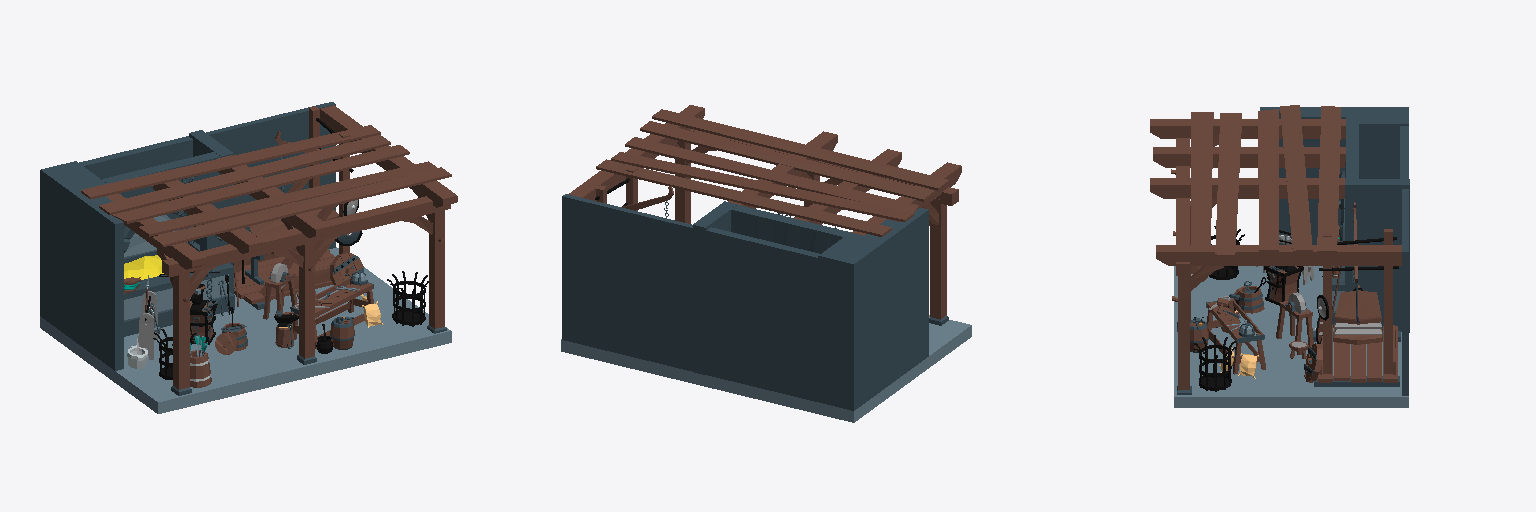
3 renders of one model, left to right at view 1: azimuth 30°, elevation 25°; view 2: azimuth 150°, elevation 25°; view 3: azimuth 270°, elevation 25°, orthographic.
Visible parts, largest first — view 1: group[number redacted], group[number redacted], group[number redacted], group[number redacted], group[number redacted], group[number redacted], group[number redacted], group[number redacted], group[number redacted], group[number redacted], group[number redacted], group[number redacted] (+19 smaller); view 2: group[number redacted], group[number redacted], group[number redacted], group[number redacted], group[number redacted], group[number redacted], group[number redacted], group[number redacted], group[number redacted], group[number redacted], group[number redacted], group[number redacted] (+8 smaller); view 3: group[number redacted], group[number redacted], group[number redacted], group[number redacted], group[number redacted], group[number redacted], group[number redacted], group[number redacted], group[number redacted], group[number redacted], group[number redacted], group[number redacted] (+11 smaller).
Boxes of the visible parts, x1=… form: group[number redacted]: x1=40, y1=247, x2=451, y2=413; group[number redacted]: x1=40, y1=161, x2=123, y2=370; group[number redacted]: x1=234, y1=106, x2=353, y2=309; group[number redacted]: x1=162, y1=196, x2=450, y2=277; group[number redacted]: x1=152, y1=167, x2=451, y2=246; group[number redacted]: x1=99, y1=135, x2=390, y2=214; group[number redacted]: x1=112, y1=145, x2=409, y2=223; group[number redacted]: x1=124, y1=242, x2=234, y2=336; group[number redacted]: x1=206, y1=102, x2=335, y2=248; group[number redacted]: x1=81, y1=125, x2=380, y2=199; group[number redacted]: x1=138, y1=161, x2=436, y2=236; group[number redacted]: x1=79, y1=136, x2=192, y2=257; group[number redacted]: x1=562, y1=194, x2=692, y2=371; group[number redacted]: x1=818, y1=208, x2=928, y2=410; group[number redacted]: x1=706, y1=227, x2=819, y2=358; group[number redacted]: x1=561, y1=315, x2=971, y2=422; group[number redacted]: x1=706, y1=332, x2=817, y2=401; group[number redacted]: x1=640, y1=121, x2=934, y2=201; group[number redacted]: x1=652, y1=109, x2=949, y2=190; group[number redacted]: x1=596, y1=159, x2=891, y2=236; group[number redacted]: x1=625, y1=137, x2=918, y2=212; group[number redacted]: x1=611, y1=152, x2=913, y2=221; group[number redacted]: x1=731, y1=205, x2=849, y2=253; group[number redacted]: x1=693, y1=201, x2=737, y2=374; group[number redacted]: x1=1174, y1=266, x2=1408, y2=407; group[number redacted]: x1=1313, y1=202, x2=1400, y2=386; group[number redacted]: x1=1345, y1=179, x2=1409, y2=332; group[number redacted]: x1=1260, y1=107, x2=1408, y2=244; group[number redacted]: x1=1156, y1=245, x2=1401, y2=265; group[number redacted]: x1=1215, y1=113, x2=1241, y2=256; group[number redacted]: x1=1191, y1=112, x2=1213, y2=254; group[number redacted]: x1=1280, y1=105, x2=1312, y2=252; group[number redacted]: x1=1317, y1=106, x2=1340, y2=252; group[number redacted]: x1=1258, y1=109, x2=1278, y2=251; group[number redacted]: x1=1150, y1=178, x2=1345, y2=198; group[number redacted]: x1=1153, y1=147, x2=1345, y2=167.
Size of the model in its own units: 3.98 by 2.09 by 2.96.